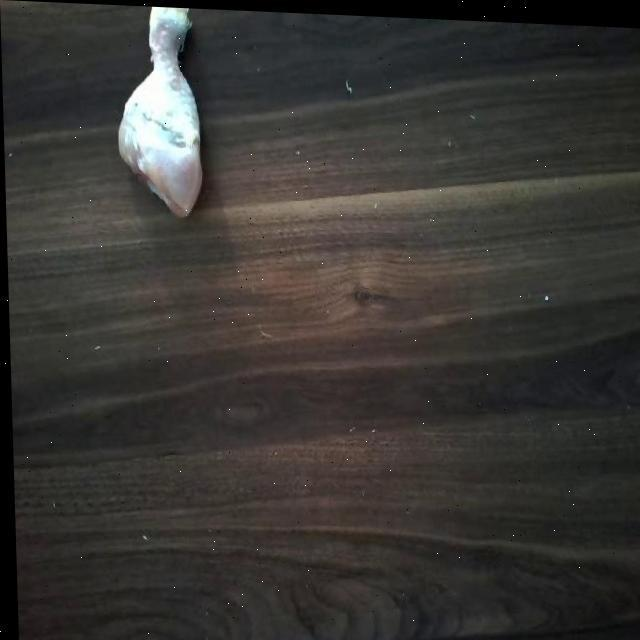leg: (116, 4, 217, 215)
